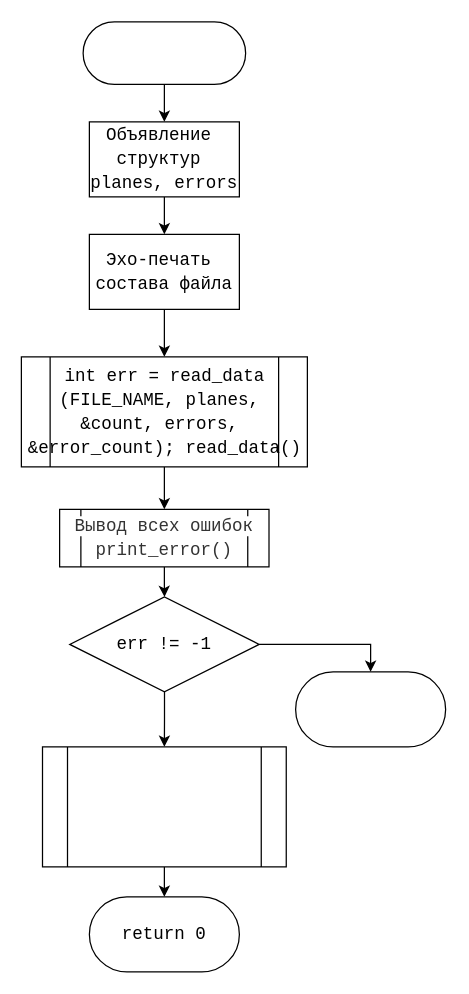
The diagram is 469 pixels wide and 994 high, and some of its shapes have lost their labels. The shapes that lost their labels are listed below. From the top down, each one's centre as x and y in pixels, then its label:
(164,52): Начало
(370,709): return -1
(163,806): Обработка каждого аэропорта process_airport (planes, count, airports[i])
